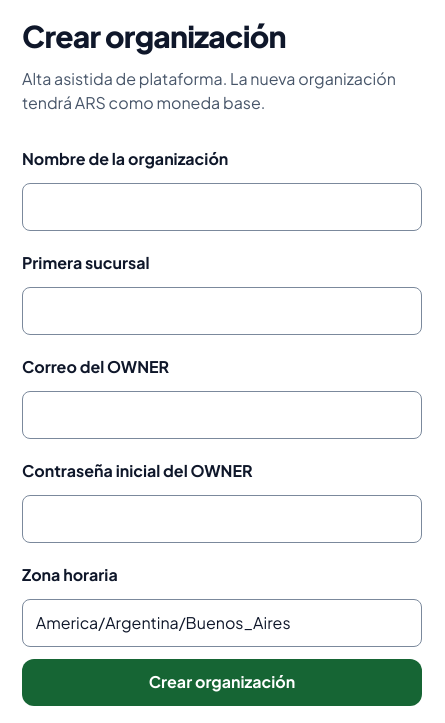
it: submits organization, first branch and owner together and confirms persisted result
Type "Almacén" into the field labelled "Nombre de la organización" at [222, 207], box [22,183,422,231]
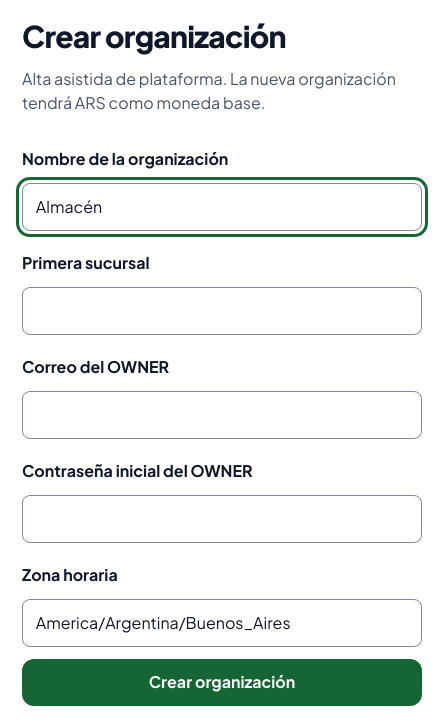
Type "Centro" into the field labelled "Primera sucursal" at [222, 311], box [22,287,422,335]
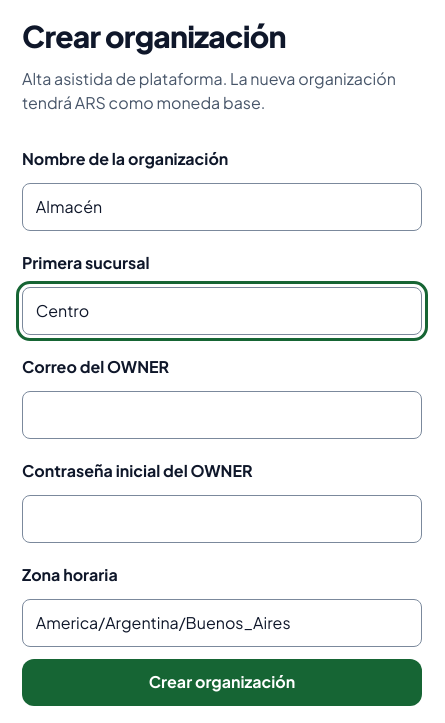
Type "owner@example.com" into the field labelled "Correo del OWNER" at [222, 415], box [22,391,422,439]
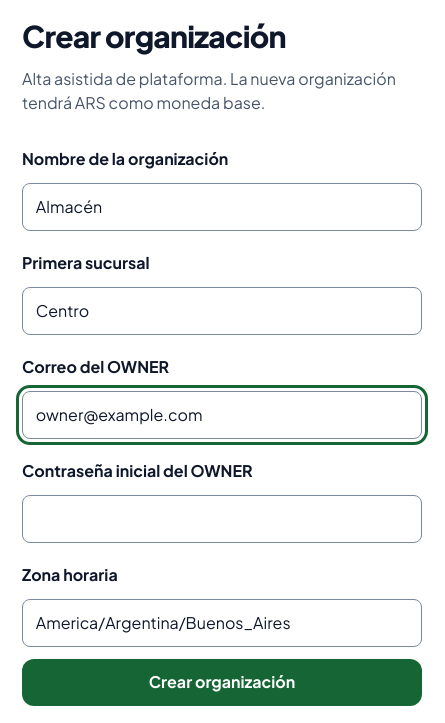
Type "password-12345" into the password field labelled "Contraseña inicial del OWNER" at [222, 519], box [22,495,422,543]
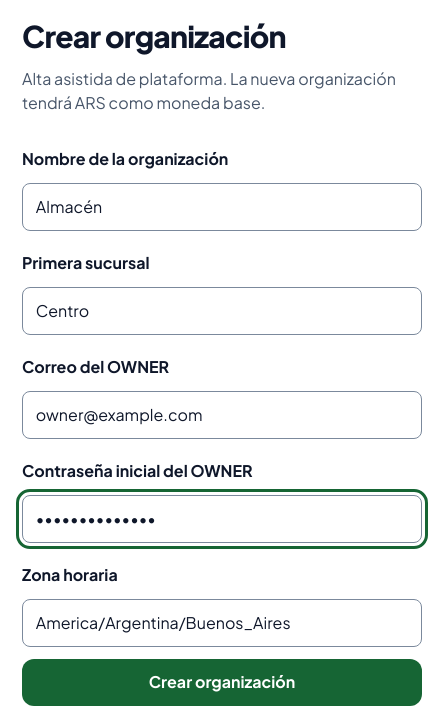
Replace the text in the field labelled "Zona horaria" with "America/Argentina/Mendoza" at [222, 623], box [22,599,422,647]
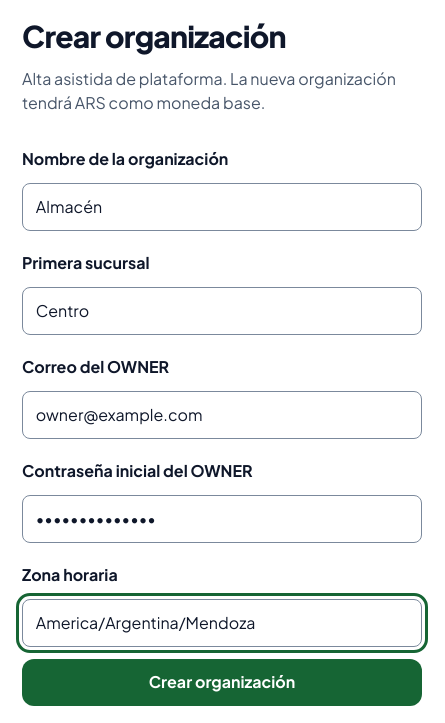
Click the button "Crear organización" at [222, 682], box [22,659,422,706]
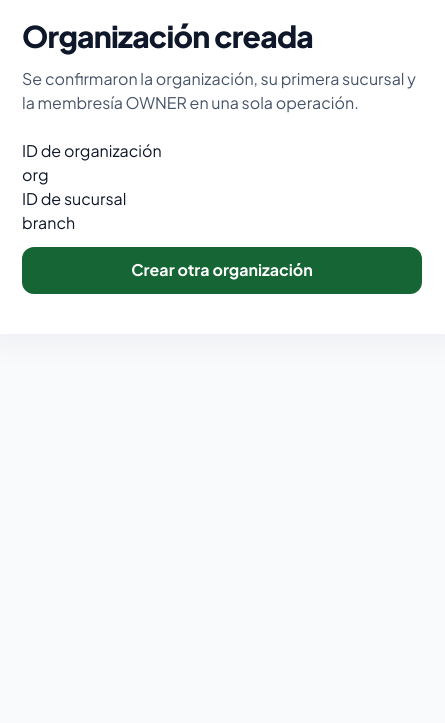
Result: the message shows "creada" at [22,17,313,55]
